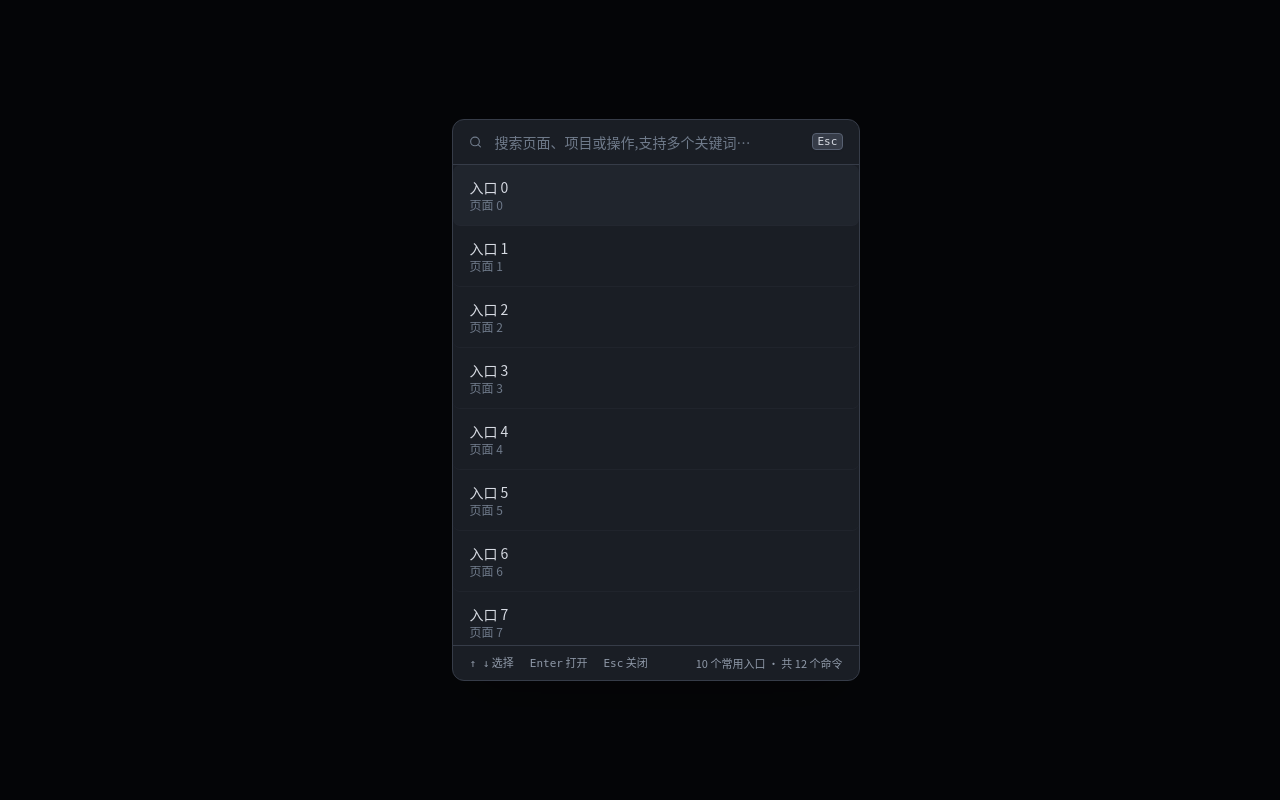
shows common destinations first and keeps the rest searchable
In the dropdown with placeholder "搜索页面、项目或操作,支持多个关键词…": (647, 142) top-left (495, 132), bottom-right (800, 152), type "入口 11"
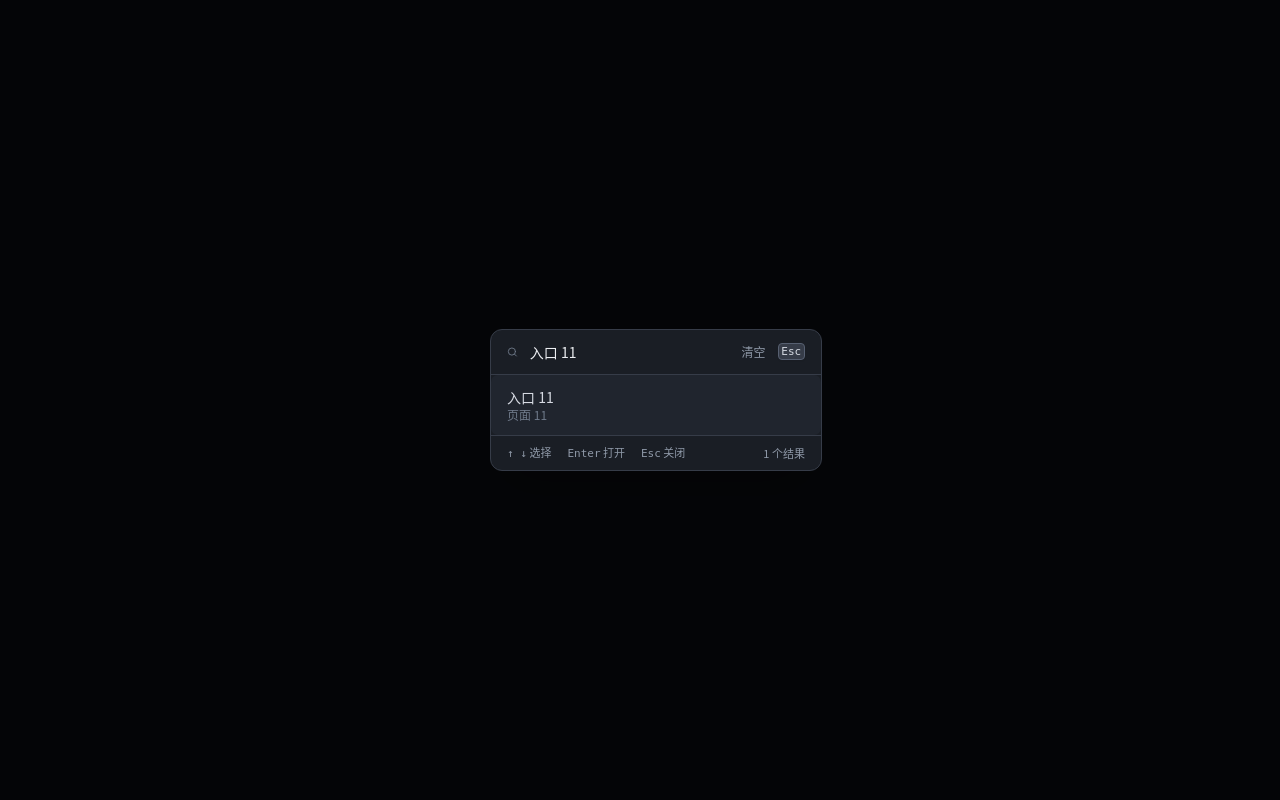
Expected: the number of options is 1, top-left (491, 375), bottom-right (821, 435)
Expected: the text "入口 11" is shown, top-left (507, 387), bottom-right (554, 407)
